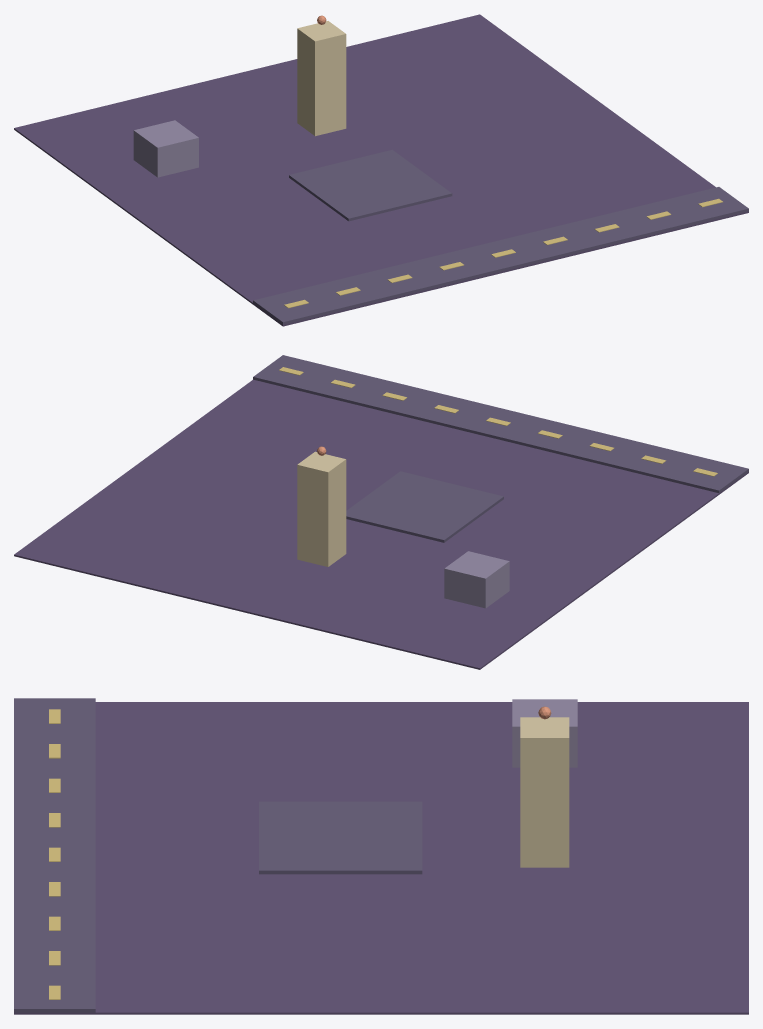
The model's file is stage_03.glb.
3 renders of one model, top to bottom at view 1: azimuth 30°, elevation 25°; view 2: azimuth 150°, elevation 25°; view 3: azimuth 270°, elevation 25°, orthographic. The views are drawn at different scales.
Visible parts, largest first — view 1: geometry_0; view 2: geometry_0; view 3: geometry_0.
Boxes of the visible parts, box(x1,y1,x2,y2) form: geometry_0: box(14, 14, 748, 326); geometry_0: box(14, 355, 748, 669); geometry_0: box(14, 698, 748, 1014).
Bounding box in the file's own units: 9 × 2.06 × 9.
